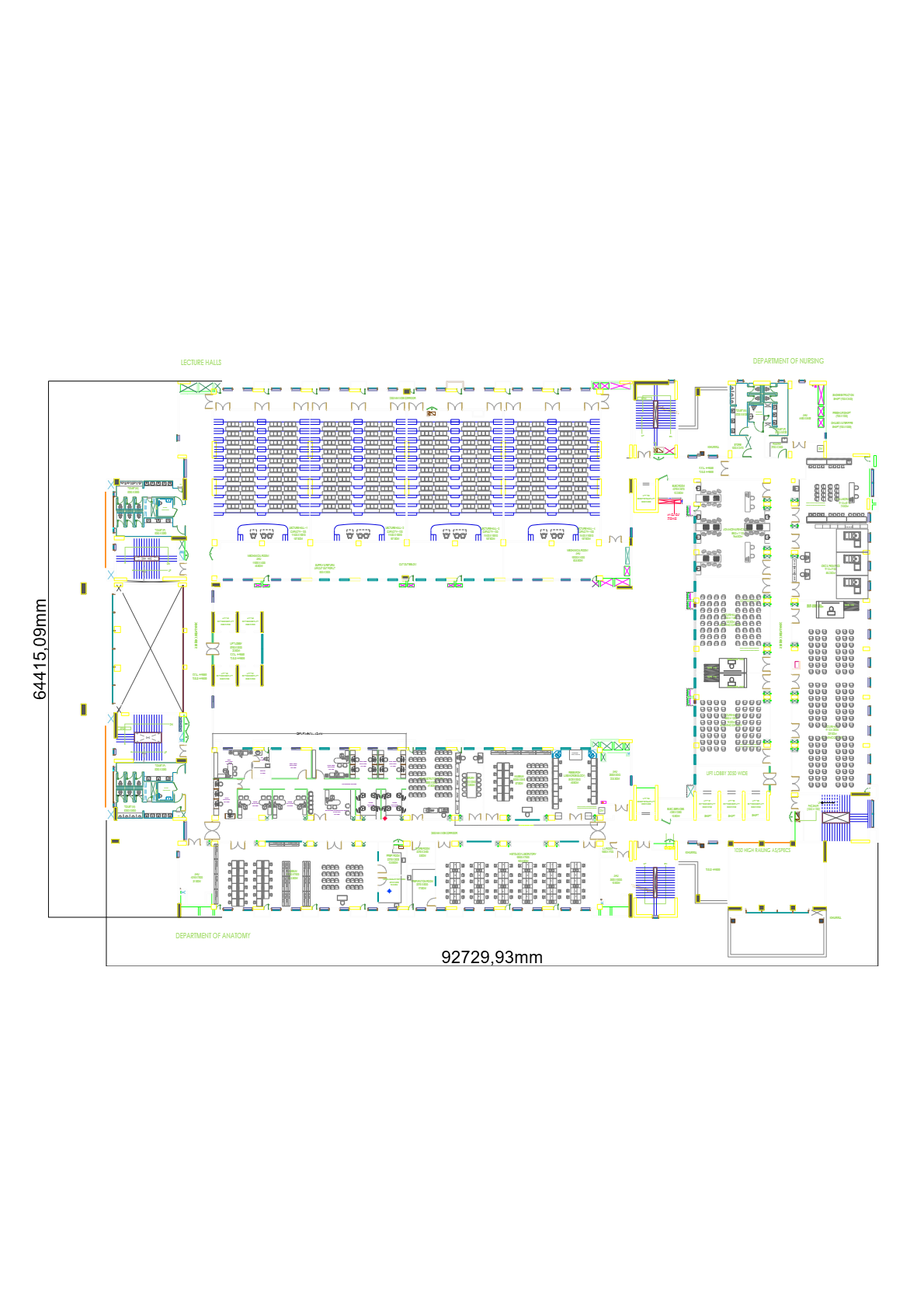door: (204, 821, 220, 840), (590, 822, 606, 839), (206, 642, 219, 655), (763, 773, 777, 785), (327, 840, 342, 850), (293, 402, 309, 411), (230, 841, 246, 850), (351, 402, 366, 411), (408, 402, 423, 411), (487, 402, 502, 411), (506, 402, 521, 411), (584, 402, 599, 411), (720, 461, 729, 476), (791, 507, 800, 522), (791, 533, 800, 548), (791, 609, 800, 624), (791, 674, 800, 689), (762, 657, 771, 672), (762, 674, 771, 689), (791, 723, 800, 738), (791, 776, 800, 791), (205, 393, 213, 409), (601, 393, 609, 409), (762, 560, 771, 574), (762, 483, 771, 497), (254, 402, 269, 410), (312, 402, 327, 410), (390, 402, 405, 410), (448, 402, 463, 410), (792, 582, 800, 597), (762, 578, 770, 593), (216, 402, 230, 410), (545, 403, 560, 410), (615, 804, 628, 812), (188, 838, 201, 846), (609, 535, 622, 543), (763, 749, 770, 763), (314, 813, 326, 821), (179, 745, 187, 757), (617, 850, 629, 858), (637, 841, 650, 848), (754, 422, 763, 432), (742, 448, 752, 457), (377, 877, 387, 886), (426, 897, 436, 906), (298, 769, 307, 779), (316, 769, 325, 779), (638, 451, 650, 458), (793, 441, 805, 448), (791, 797, 798, 809), (583, 841, 595, 848), (570, 813, 582, 820), (486, 813, 498, 820), (469, 813, 481, 820), (438, 841, 450, 848), (179, 563, 186, 575), (739, 427, 748, 436), (778, 449, 787, 458), (769, 427, 779, 435), (377, 865, 387, 873), (174, 793, 182, 803), (175, 496, 183, 506), (244, 769, 252, 779), (412, 814, 423, 821), (412, 841, 420, 850), (177, 764, 185, 773), (177, 526, 185, 535), (237, 779, 243, 789), (117, 772, 124, 780), (117, 794, 124, 802), (117, 497, 124, 505), (117, 519, 124, 527), (747, 386, 754, 393), (770, 396, 777, 403), (610, 842, 617, 849), (253, 755, 260, 762), (747, 396, 755, 402), (127, 772, 133, 780), (136, 772, 142, 780), (127, 794, 133, 802), (136, 794, 142, 802), (127, 497, 133, 505), (136, 497, 142, 505), (127, 519, 133, 527), (136, 519, 142, 527), (408, 575, 414, 582), (456, 575, 462, 582), (553, 904, 559, 910), (176, 806, 182, 812), (263, 575, 269, 581), (864, 457, 871, 462), (264, 903, 269, 910), (312, 903, 317, 910), (360, 903, 365, 910), (409, 903, 414, 910), (505, 903, 510, 910), (178, 486, 183, 493), (771, 387, 777, 392), (764, 415, 769, 421), (864, 787, 870, 792), (216, 388, 221, 394), (216, 904, 221, 910), (147, 796, 152, 802), (147, 497, 152, 503), (264, 747, 269, 753), (409, 747, 414, 753), (457, 747, 462, 753), (591, 576, 597, 581), (264, 389, 269, 394), (312, 389, 317, 394), (360, 389, 365, 394), (409, 389, 414, 394), (457, 389, 462, 394), (505, 389, 510, 394), (553, 389, 558, 394), (694, 506, 699, 511)
